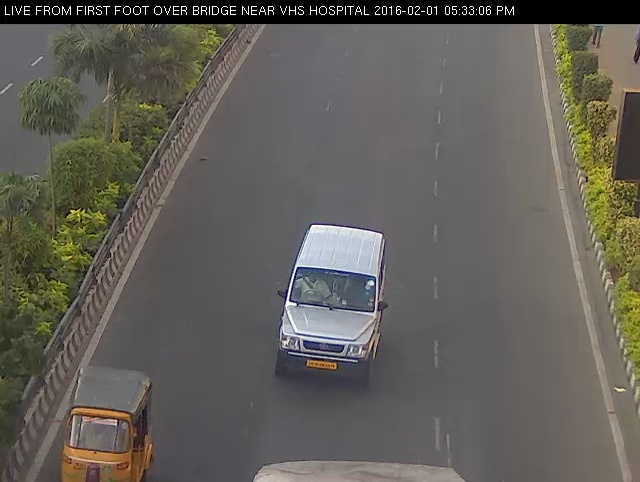Bus: (238, 449, 473, 482)
Car: (267, 219, 397, 395), (54, 349, 159, 481)
